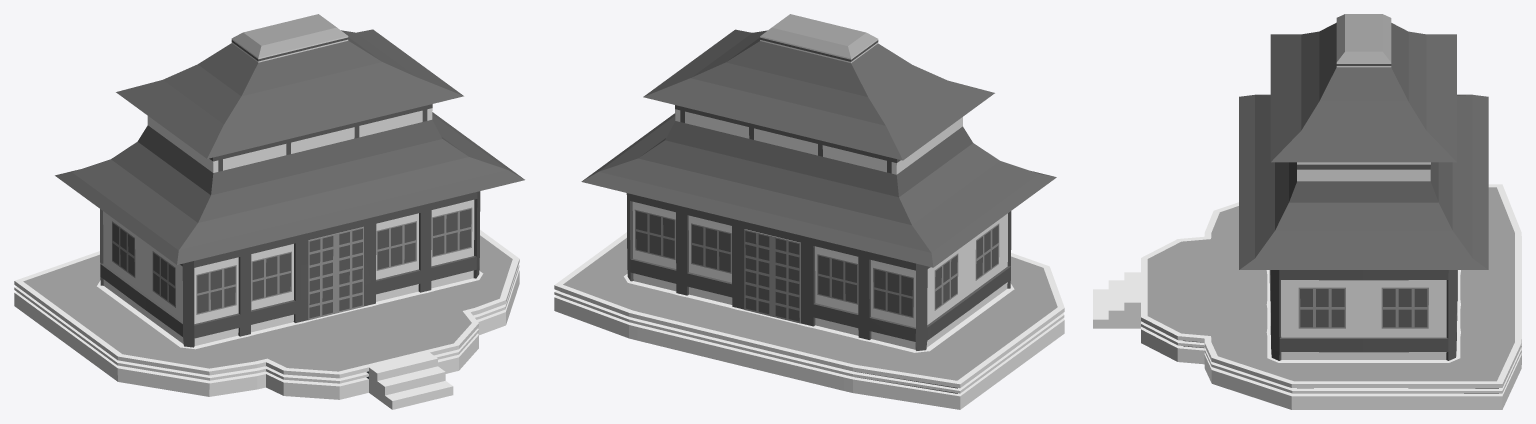
File: Asain Buildings_2S.fbx
The picture shows the model from 3 angles, left to right: view 1: azimuth 30°, elevation 25°; view 2: azimuth 150°, elevation 25°; view 3: azimuth 270°, elevation 25°; orthographic projection.
Parts seen in each view (by area): view 1: Asain Buildings_2S; view 2: Asain Buildings_2S; view 3: Asain Buildings_2S.
Part boxes in pixels (left/top/right/bottom): Asain Buildings_2S: left=14, top=14, right=524, bottom=409; Asain Buildings_2S: left=554, top=14, right=1064, bottom=409; Asain Buildings_2S: left=1093, top=14, right=1521, bottom=409.
Bounding box in the file's own units: 0.6147 × 0.4028 × 0.5576.
